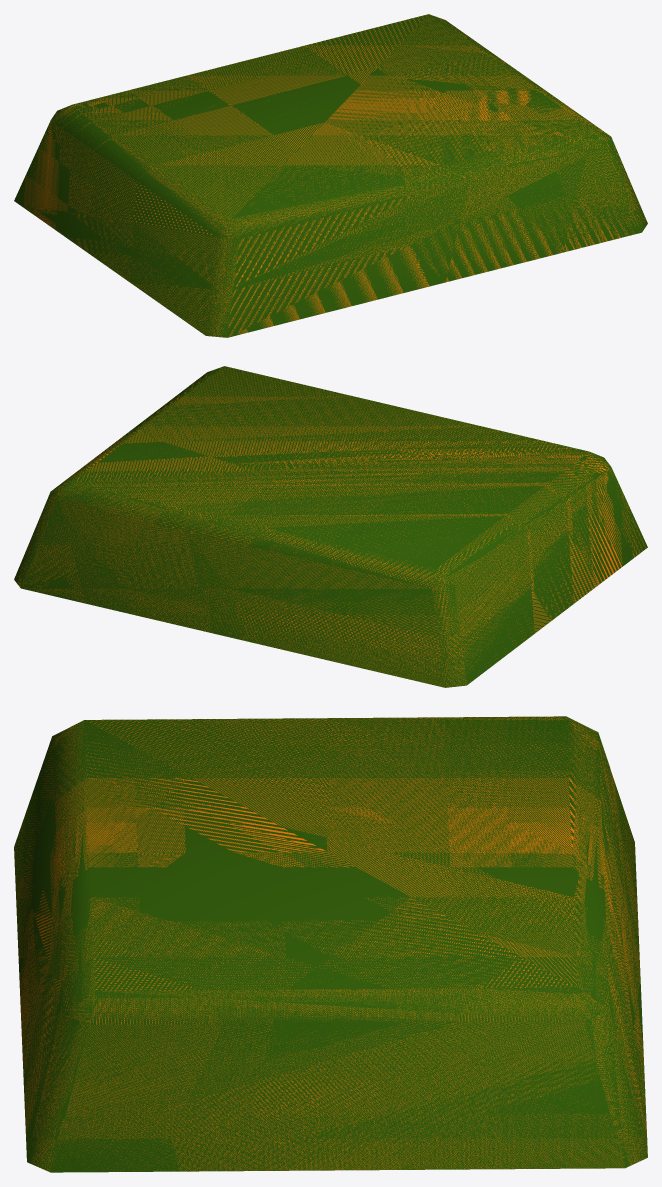
Rendered from original-10.obj.
3 views of the same model, one above another, from view 1: azimuth 30°, elevation 25°; view 2: azimuth 150°, elevation 25°; view 3: azimuth 270°, elevation 25° (orthographic). The views are drawn at different scales.
Parts seen in each view (by area): view 1: mesh9/mesh9-geometry#mesh9-geometry; view 2: mesh9/mesh9-geometry#mesh9-geometry; view 3: mesh9/mesh9-geometry#mesh9-geometry.
Boxes of the visible parts, left/top/right/bottom form: mesh9/mesh9-geometry#mesh9-geometry: left=14, top=14, right=647, bottom=337; mesh9/mesh9-geometry#mesh9-geometry: left=14, top=366, right=647, bottom=687; mesh9/mesh9-geometry#mesh9-geometry: left=14, top=716, right=647, bottom=1172.
Bounding box in the file's own units: 0.0594 × 0.0121 × 0.0467.
